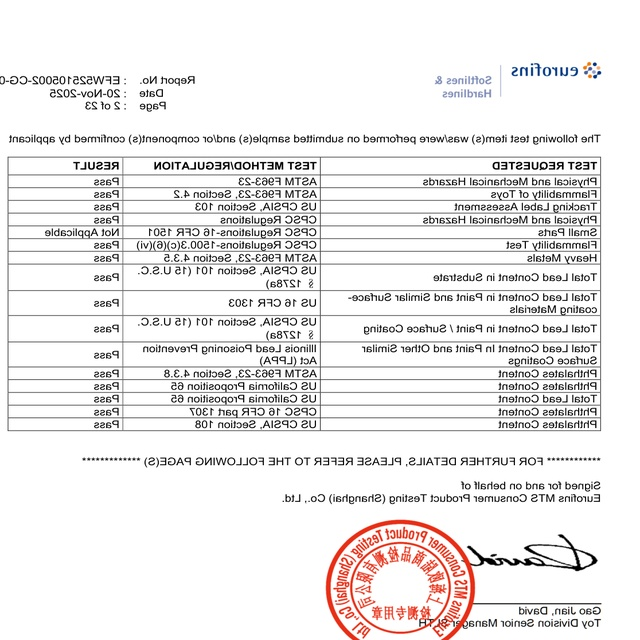eurofins: (508, 57, 608, 86)
